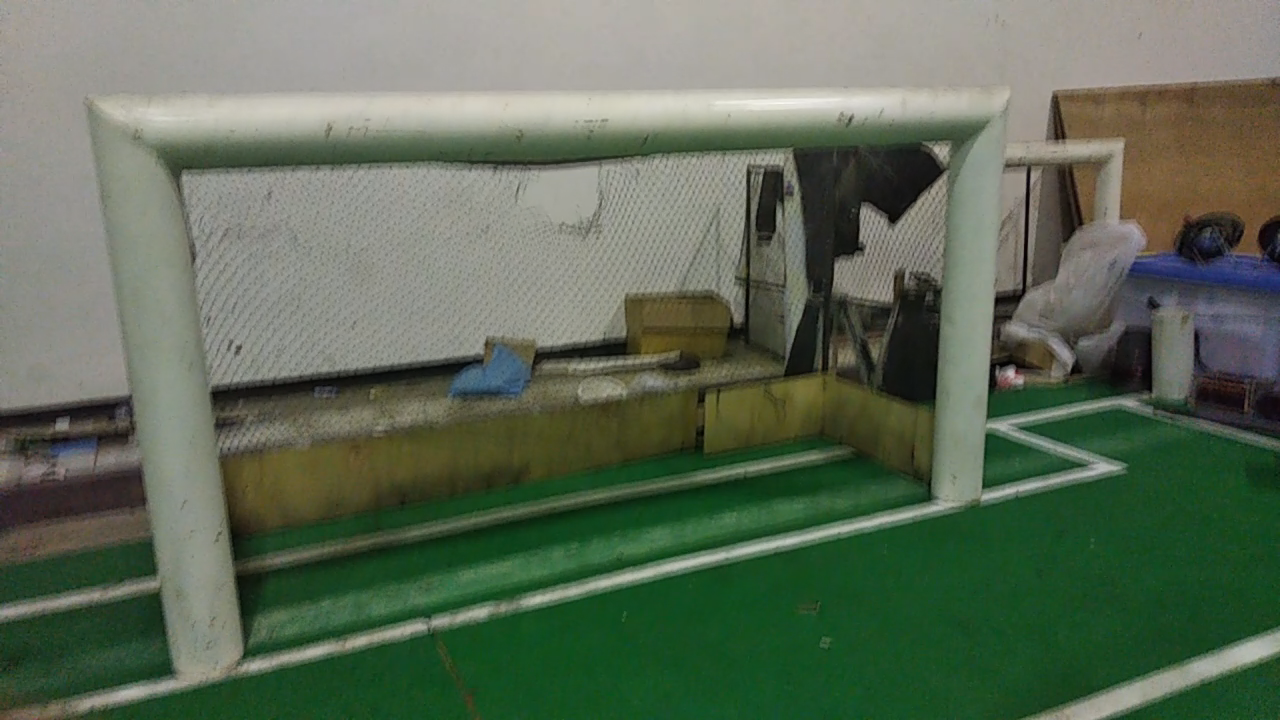gawang: (68, 74, 1033, 695)
